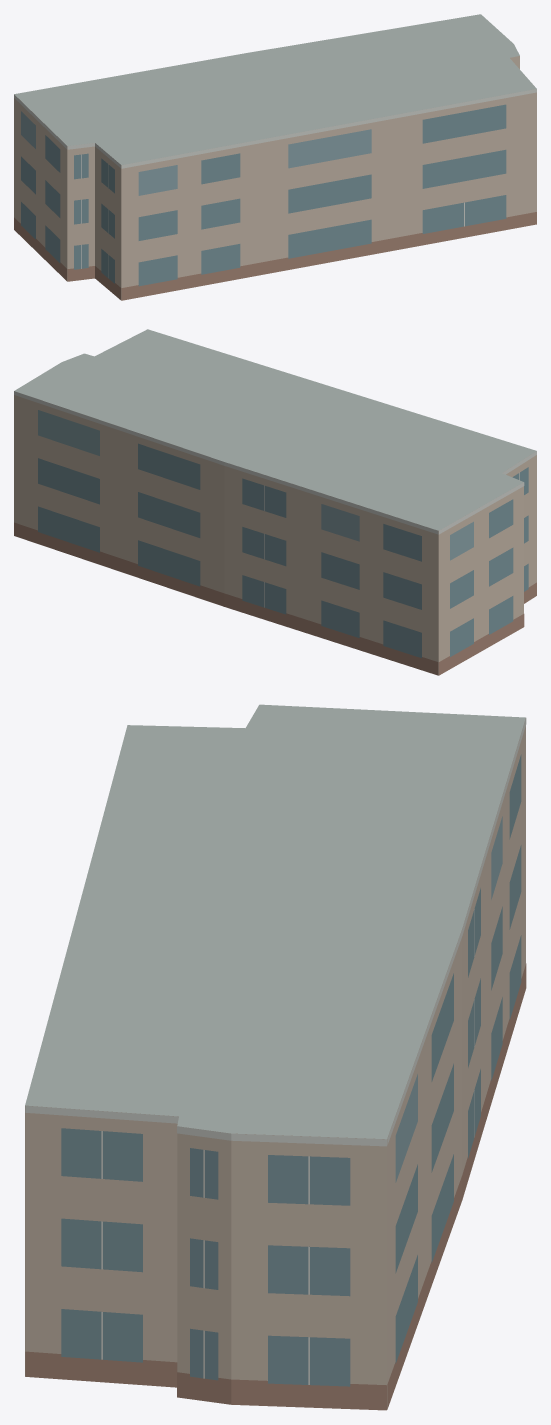
Rendered from survey-upis-32642816.glb.
3 views of the same model, one above another, from view 1: azimuth 30°, elevation 25°; view 2: azimuth 150°, elevation 25°; view 3: azimuth 270°, elevation 25° (orthographic). The views are drawn at different scales.
Parts seen in each view (by area): view 1: survey-upis-32642816.tmp; view 2: survey-upis-32642816.tmp; view 3: survey-upis-32642816.tmp.
Boxes of the visible parts, box(x1,y1,x2,y2) form: survey-upis-32642816.tmp: box(14, 14, 536, 300); survey-upis-32642816.tmp: box(14, 329, 536, 675); survey-upis-32642816.tmp: box(25, 704, 526, 1410).
Size of the model in its own units: 31.47 by 9.15 by 15.33.
